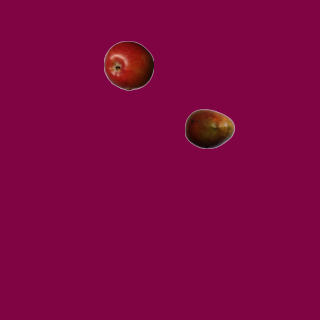Apple Braeburn: (103, 40, 153, 90)
Mango Red: (184, 103, 234, 153)
